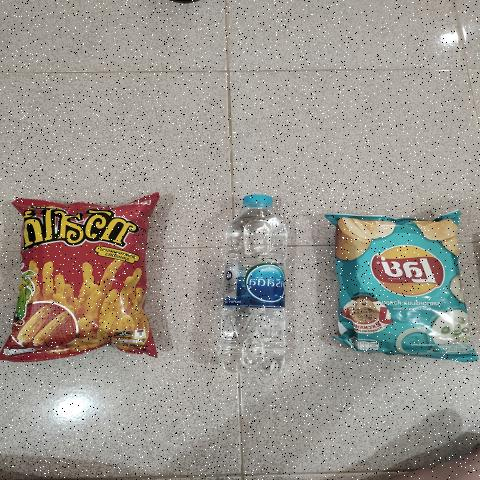crystal: (236, 196, 281, 364)
lay_blue: (350, 217, 456, 349)
twisco: (31, 209, 145, 350)
